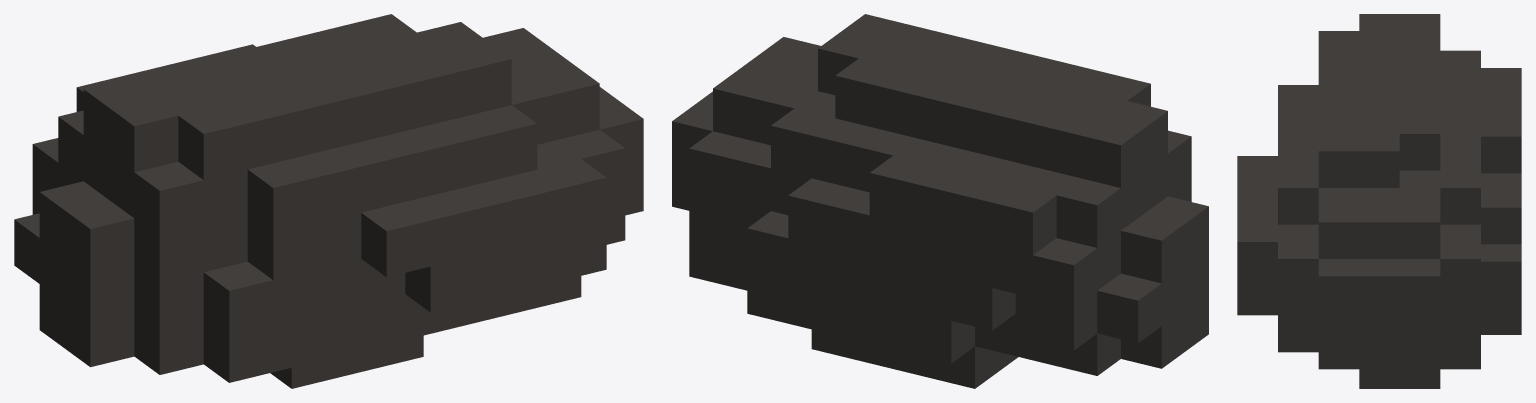
The model's file is Stone_1.fbx.
The picture shows the model from 3 angles, left to right: view 1: azimuth 30°, elevation 25°; view 2: azimuth 150°, elevation 25°; view 3: azimuth 270°, elevation 25°; orthographic projection. The views are drawn at different scales.
Parts seen in each view (by area): view 1: Stone_1; view 2: Stone_1; view 3: Stone_1.
Boxes of the visible parts, x1,y1,x2,y2 form: Stone_1: (14,14,643,388); Stone_1: (672,14,1208,388); Stone_1: (1237,14,1521,388).
Size of the model in its own units: 120 by 60 by 70.
